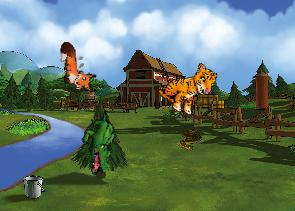crocodile: (74, 109, 126, 177)
fox: (58, 40, 97, 94)
tiger: (154, 52, 221, 121)
